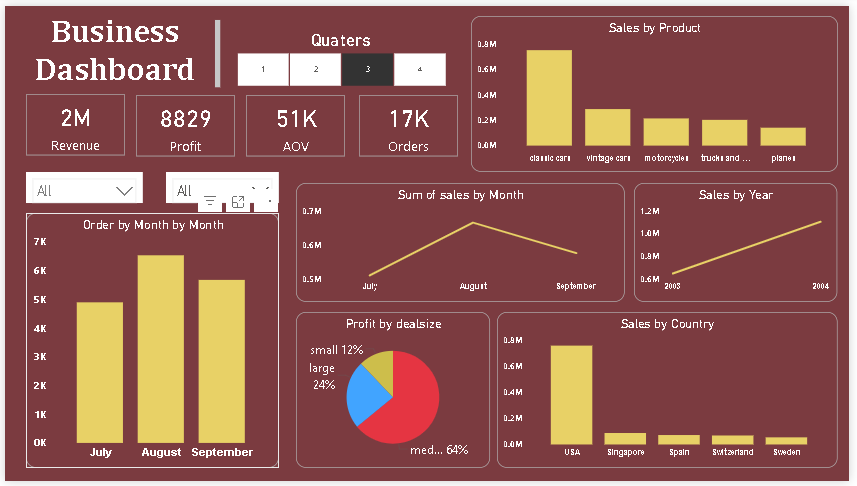

The page's visual inventory and layout, read from the dashboard file:
{"tool":"powerbi","page":{"name":"Page 1","canvas":[1280,720],"ordinal":0},"visuals":[{"type":"lineChart","title":"Sales by Year","fields":{"Category":["Sheet1.sell_date.Variation.Date Hierarchy.Year","Sheet1.sell_date.Variation.Date Hierarchy.Quarter","Sheet1.sell_date.Variation.Date Hierarchy.Month","Sheet1.sell_date.Variation.Date Hierarchy.Day"],"Y":["Sum(Sheet1.sales)"]},"box":[953,268.2,307.6,180.3],"z":0},{"type":"columnChart","title":"Sales by Country","fields":{"Category":["Sheet1.country"],"Y":["Sum(Sheet1.sales)"]},"box":[745.7,464.3,515.7,235.7],"z":1000},{"type":"columnChart","title":"Sales by Product","fields":{"Category":["Sheet1.product"],"Y":["Sum(Sheet1.sales)"]},"box":[706.1,15.2,556.1,236.4],"z":2000},{"type":"slicer","title":"Quaters","fields":{"Values":["Sheet1.qtr_id"]},"box":[331.8,34.8,354.5,87.9],"z":3000},{"type":"card","fields":{"Values":["Sum(Sheet1.sales)"]},"box":[31.4,132.9,150,92.9],"z":4000},{"type":"card","fields":{"Values":["Sum(Sheet1.profit)"]},"box":[198.6,134.3,150,92.9],"z":5000},{"type":"card","fields":{"Values":["Sum(Sheet1.sell_price)"]},"box":[365.7,134.3,150,92.9],"z":6000},{"type":"card","fields":{"Values":["Sum(Sheet1.quantity_ordered)"]},"box":[535.7,134.3,150,92.9],"z":7000},{"type":"pieChart","title":"Profit by dealsize","fields":{"Category":["Sheet1.dealsize"],"Y":["Sum(Sheet1.profit)"]},"box":[440.9,463.6,293.9,236.4],"z":9000},{"type":"lineChart","fields":{"Y":["Sum(Sheet1.sales)"],"Category":["Sheet1.sell_date.Variation.Date Hierarchy.Month"]},"box":[440.9,268.2,498.5,180.3],"z":9001},{"type":"textbox","box":[15.2,15.2,310.6,107.6],"z":9002},{"type":"slicer","fields":{"Values":["Sheet1.sell_date.Variation.Date Hierarchy.Month"]},"box":[243.9,251.5,171.2,47],"z":9004},{"type":"slicer","fields":{"Values":["Sheet1.country"]},"box":[31.8,251.5,177.3,47],"z":9005},{"type":"lineClusteredColumnComboChart","fields":{"Category":["Sheet1.sell_date.Variation.Date Hierarchy.Month"],"Y":["Sum(Sheet1.quantity_ordered)"]},"box":[31.8,313.6,383.3,386.4],"z":9006}]}

Visuals, with their boxes in screenshot pixels (x1, y1, x2, y2), scaled from the page's 1280x720 canvas onto the 857x486 screenshot:
"Sales by Year" lineChart: <box>638,181,844,303</box>
"Sales by Country" columnChart: <box>499,313,845,473</box>
"Sales by Product" columnChart: <box>473,10,845,170</box>
"Quaters" slicer: <box>222,23,459,83</box>
card - Sum(Sheet1.sales): <box>21,90,121,152</box>
card - Sum(Sheet1.profit): <box>133,91,233,153</box>
card - Sum(Sheet1.sell_price): <box>245,91,345,153</box>
card - Sum(Sheet1.quantity_ordered): <box>359,91,459,153</box>
"Profit by dealsize" pieChart: <box>295,313,492,473</box>
lineChart - Sum(Sheet1.sales) x Sheet1.sell_date.Variation.Date Hierarchy.Month: <box>295,181,629,303</box>
textbox: <box>10,10,218,83</box>
slicer - Sheet1.sell_date.Variation.Date Hierarchy.Month: <box>163,170,278,201</box>
slicer - Sheet1.country: <box>21,170,140,201</box>
lineClusteredColumnComboChart - Sheet1.sell_date.Variation.Date Hierarchy.Month x Sum(Sheet1.quantity_ordered): <box>21,212,278,473</box>
